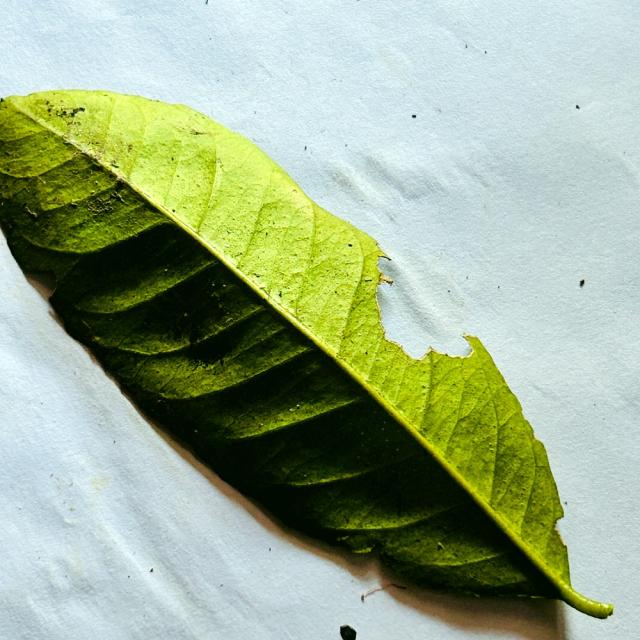Deficiency Leaf: (376, 255, 470, 358), (22, 265, 57, 300)
Lemon: (0, 91, 612, 618)
